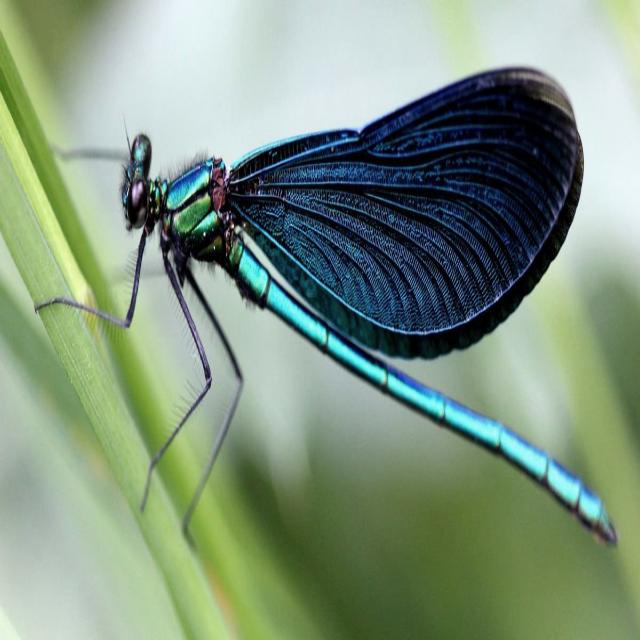dragonfly: (34, 67, 617, 544)
